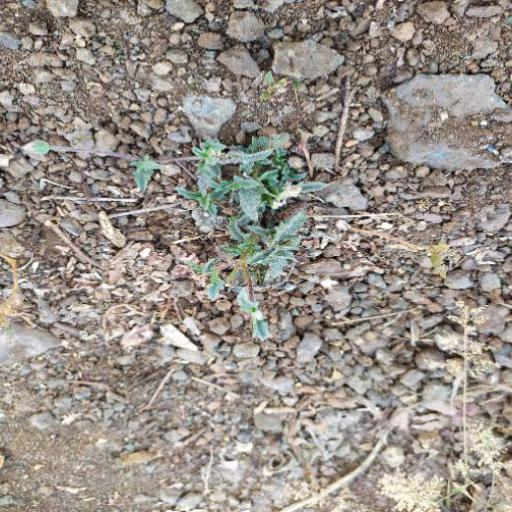weed: (128, 123, 320, 298)
